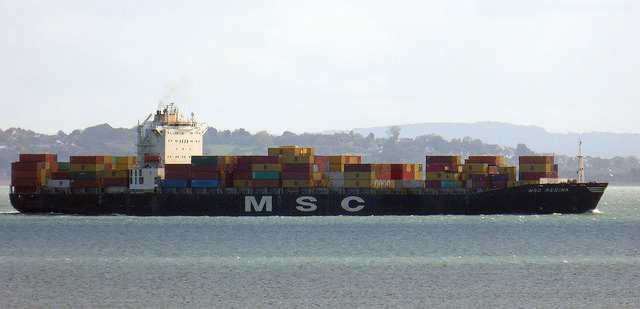container_ship: (9, 103, 609, 217)
